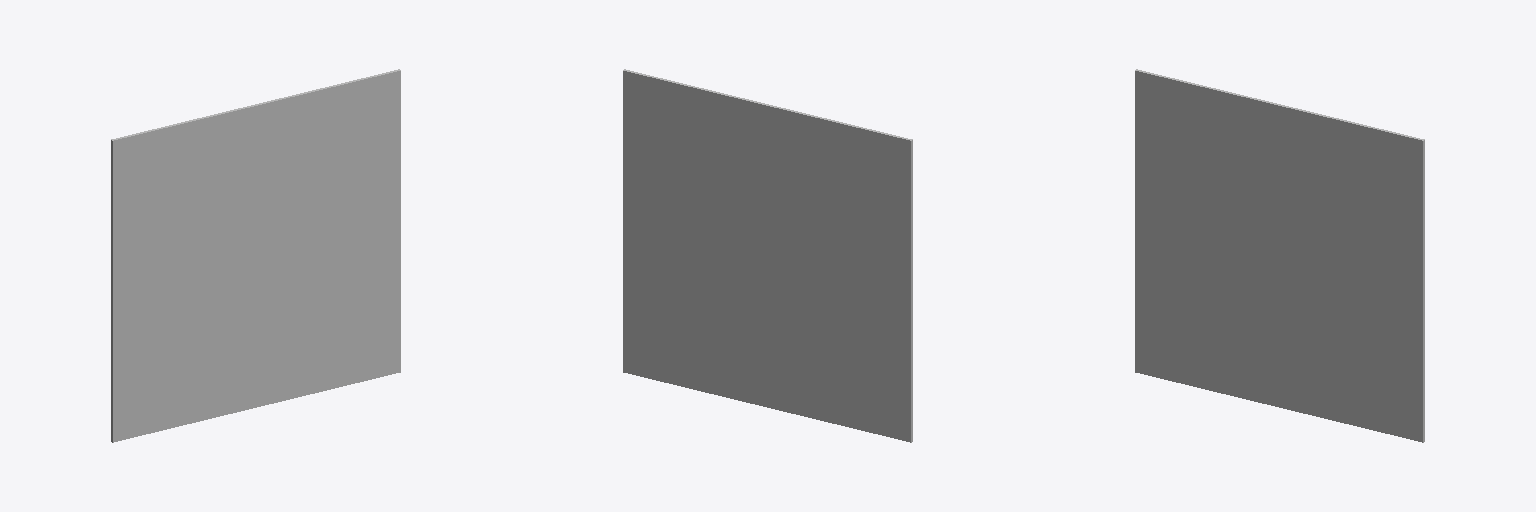
File: tile pared basura.obj
3 renders of one model, left to right at view 1: azimuth 30°, elevation 25°; view 2: azimuth 150°, elevation 25°; view 3: azimuth 330°, elevation 25°, orthographic.
Visible parts, largest first — view 1: object 1; view 2: object 1; view 3: object 1.
Part boxes in pixels (x1,y1,x2,y2): object 1: (111,69,400,442); object 1: (623,69,912,442); object 1: (1135,69,1424,442).
Size of the model in its own units: 9.6 by 9.6 by 0.1.